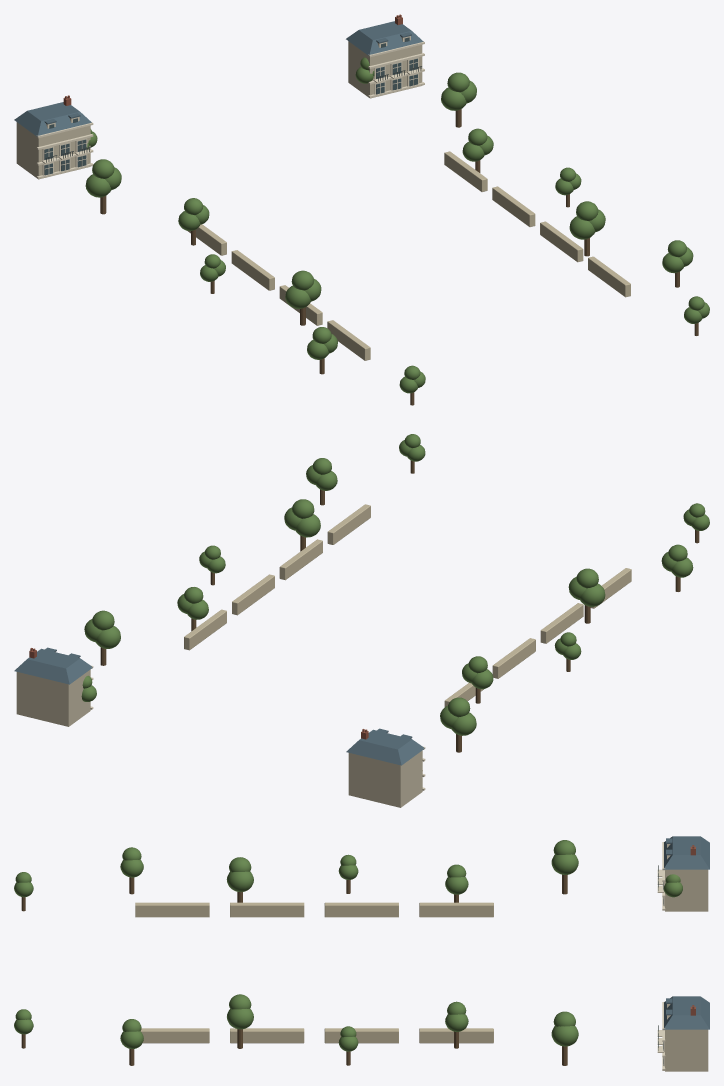
The model's file is region_mountain_runtime.glb.
3 views of the same model, one above another, from view 1: azimuth 30°, elevation 25°; view 2: azimuth 150°, elevation 25°; view 3: azimuth 270°, elevation 25° (orthographic).
Visible parts, largest first — view 1: Static Linden green, Static Limestone, Static Warm limestone, Static Blue zinc, Static Pale carved stone, Static Window blue, Static Bark; view 2: Static Linden green, Static Warm limestone, Static Limestone, Static Blue zinc, Static Bark; view 3: Static Limestone, Static Linden green, Static Warm limestone, Static Blue zinc, Static Bark, Static Pale carved stone.
Part boxes in pixels (box(x1,y1,x2,y2)): Static Linden green: box(85, 57, 709, 393); Static Limestone: box(188, 151, 630, 360); Static Warm limestone: box(16, 41, 422, 179); Static Blue zinc: box(14, 21, 423, 136); Static Pale carved stone: box(36, 36, 424, 178); Static Window blue: box(44, 37, 417, 175); Static Bark: box(100, 109, 698, 405); Static Linden green: box(81, 434, 709, 735); Static Warm limestone: box(16, 669, 422, 807); Static Limestone: box(184, 504, 631, 706); Static Blue zinc: box(14, 647, 424, 765); Static Bark: box(100, 460, 699, 752); Static Limestone: box(135, 902, 493, 1043); Static Linden green: box(14, 840, 682, 1051); Static Warm limestone: box(665, 869, 708, 1071); Static Blue zinc: box(663, 836, 709, 1029); Static Bark: box(21, 874, 567, 1065); Static Pale carved stone: box(657, 842, 670, 1070).
Size of the model in its own units: 32.79 by 5.02 by 51.44.
